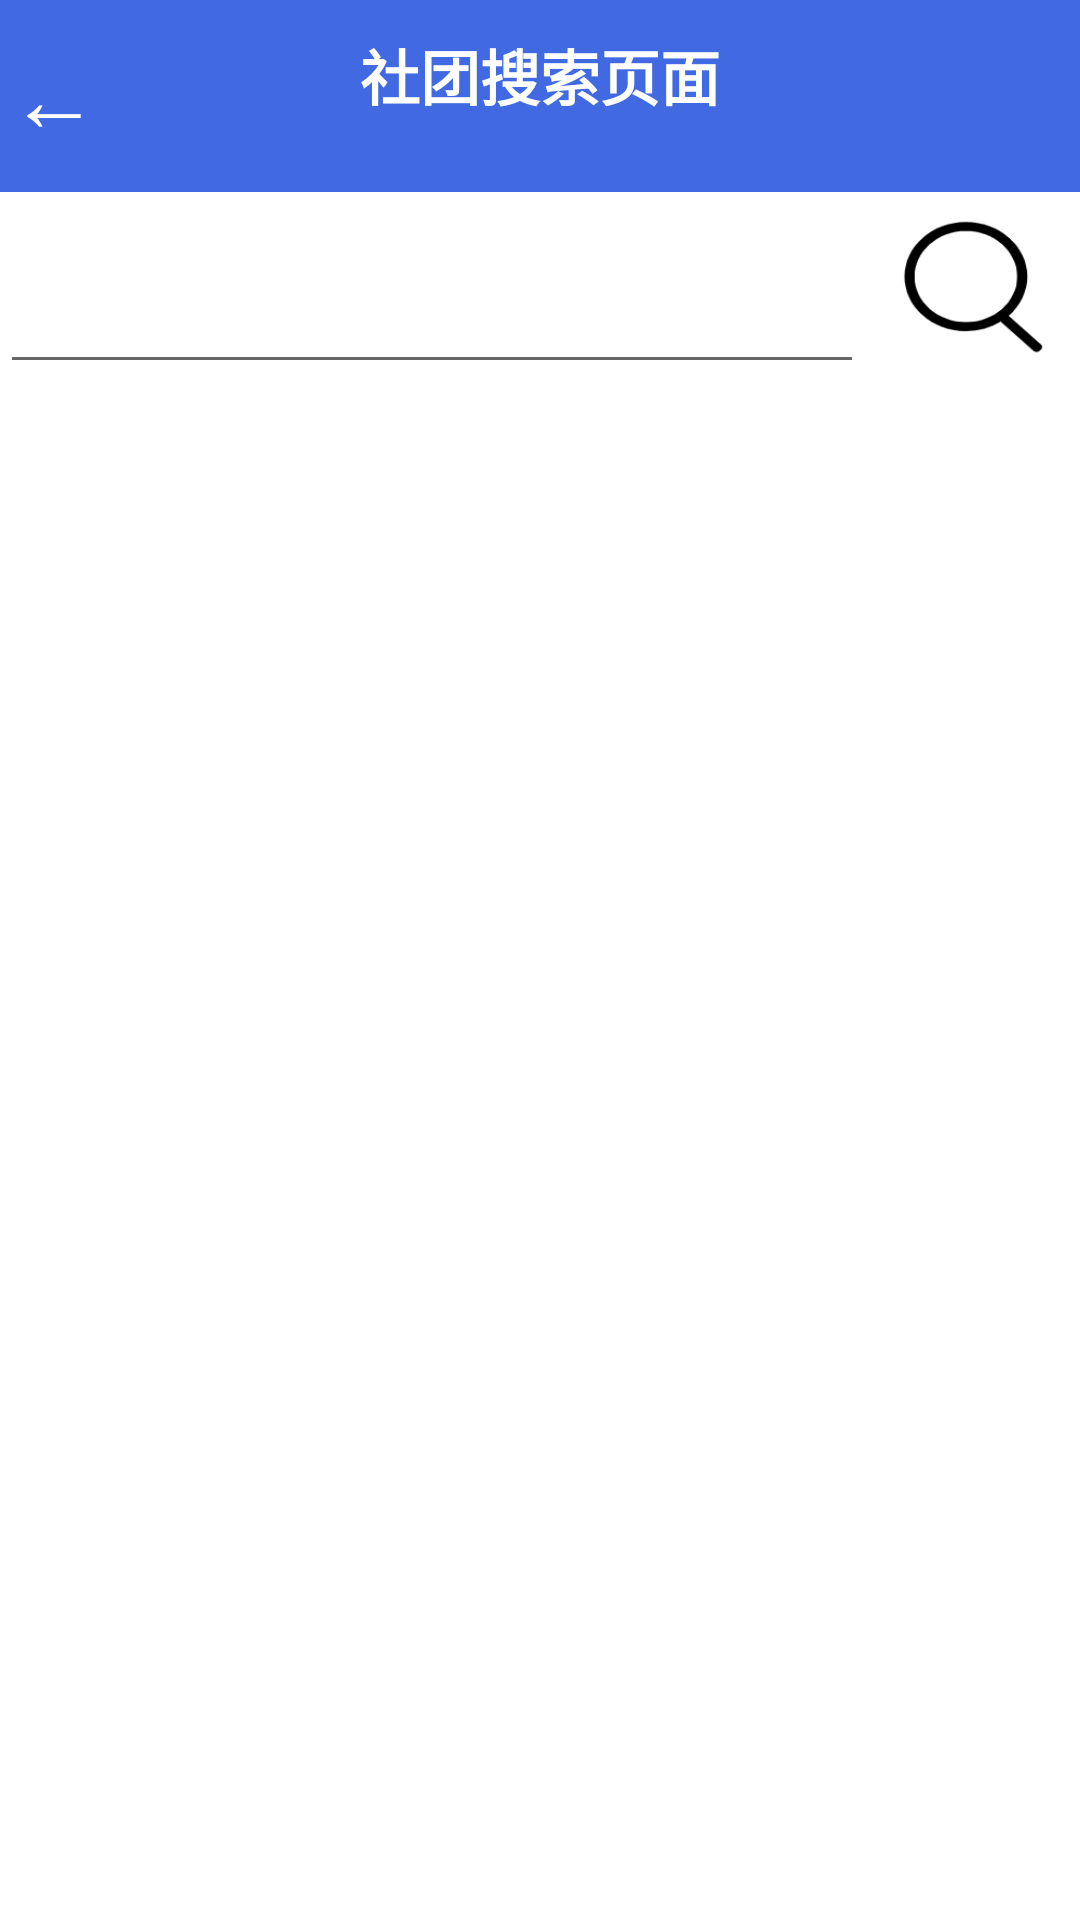

Icons on this 1080px×1920px Android screen, each with the point to tap as (x,y):
search: (973,287)
